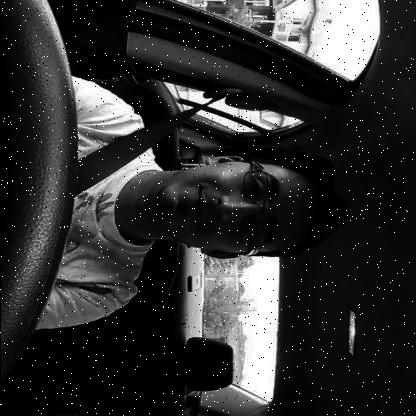seatbelt: (0, 82, 347, 268)
